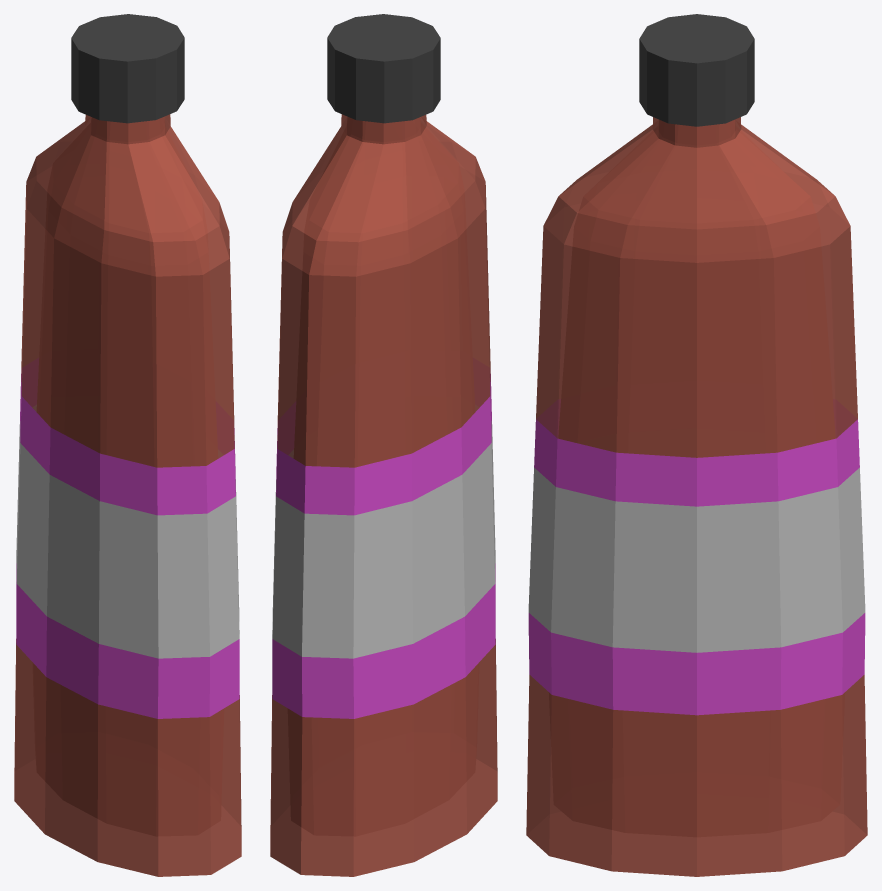
File: Spirit Bottle 2.fbx
3 views of the same model, side by side, from view 1: azimuth 30°, elevation 25°; view 2: azimuth 150°, elevation 25°; view 3: azimuth 270°, elevation 25° (orthographic). The views are drawn at different scales.
Parts seen in each view (by area): view 1: Spirit Bottle 2, Spirit Bottle 1 Lid; view 2: Spirit Bottle 2, Spirit Bottle 1 Lid; view 3: Spirit Bottle 2, Spirit Bottle 1 Lid.
Boxes of the visible parts, x1,y1,x2,y2 form: Spirit Bottle 2: (14, 114, 241, 876); Spirit Bottle 1 Lid: (71, 14, 184, 123); Spirit Bottle 2: (270, 114, 497, 876); Spirit Bottle 1 Lid: (327, 14, 440, 123); Spirit Bottle 2: (526, 117, 867, 876); Spirit Bottle 1 Lid: (639, 14, 754, 126).
Size of the model in its own units: 73.16 by 327 by 127.
